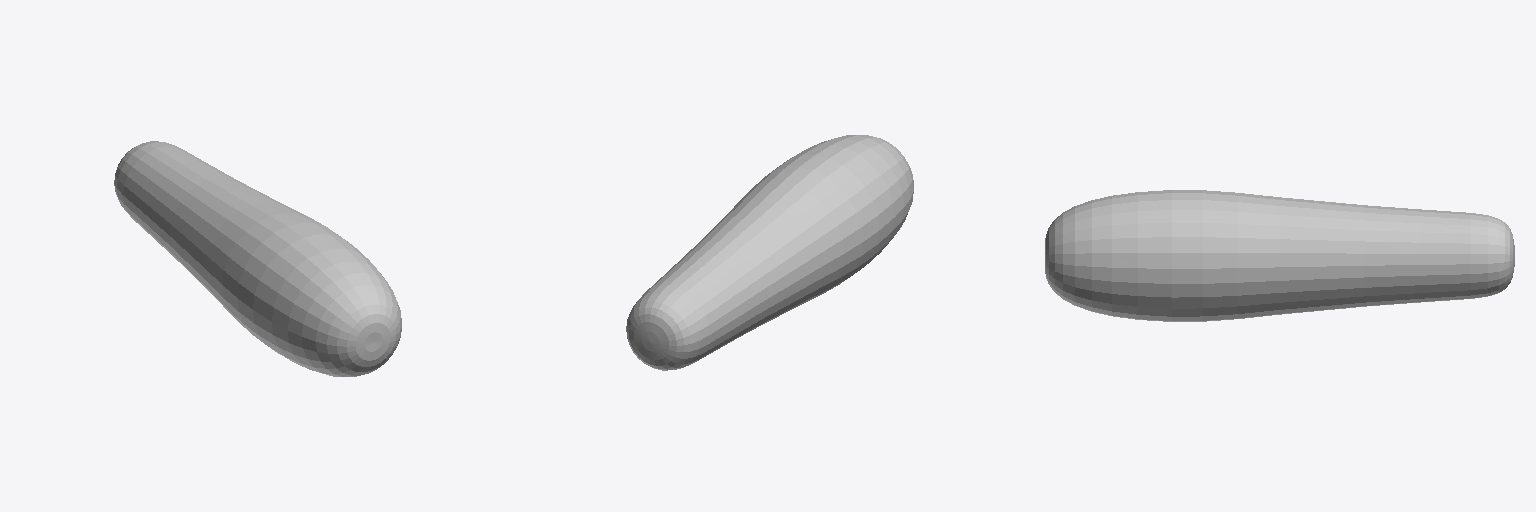
File: upperArm_ascii.obj
3 renders of one model, left to right at view 1: azimuth 30°, elevation 25°; view 2: azimuth 150°, elevation 25°; view 3: azimuth 270°, elevation 25°, orthographic.
Parts seen in each view (by area): view 1: Object__0; view 2: Object__0; view 3: Object__0.
Part boxes in pixels (left/top/right/bottom): Object__0: left=114, top=141, right=401, bottom=376; Object__0: left=626, top=135, right=913, bottom=370; Object__0: left=1045, top=190, right=1514, bottom=321.
Bounding box in the file's own units: 0.0902 × 0.0895 × 0.3203.